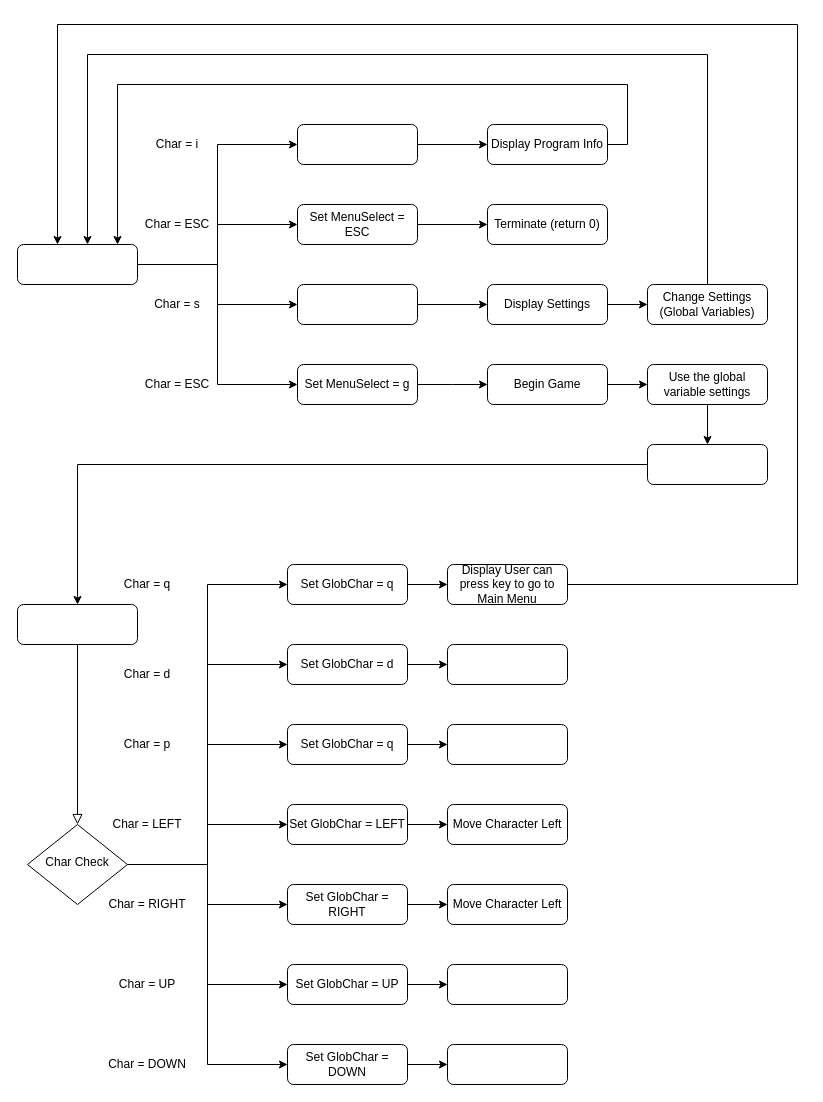
Image size: 823x1102. Some labels were removed from this diagram. Each missing label, with the box of its shape:
Drop Off Object: (446, 644, 568, 684)
Main Menu: (16, 244, 138, 284)
Move Character DOWN: (446, 1044, 568, 1084)
Move Character UP: (446, 964, 568, 1004)
Pick Up Object: (446, 724, 568, 764)
Read and Print Text File of maze: (646, 444, 768, 484)
Set MenuSelect = i: (296, 124, 418, 164)
Set MenuSelect = s: (296, 284, 418, 324)
Wait For Input: (16, 604, 138, 644)
